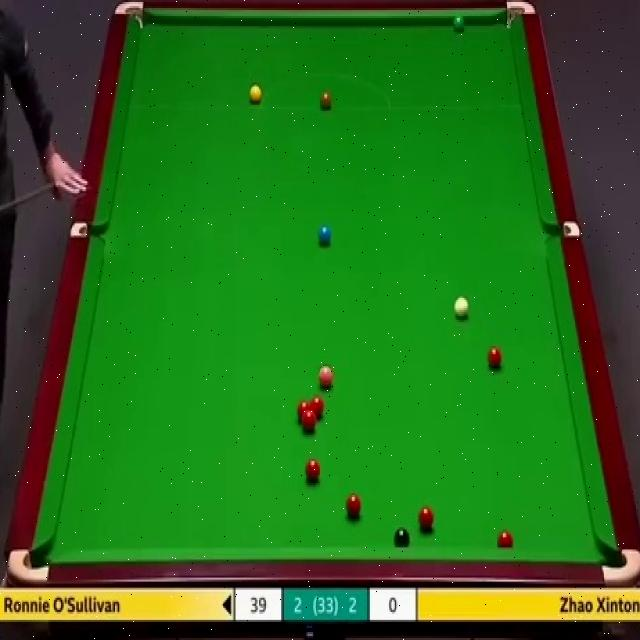black-ball: (393, 526, 409, 546)
blue-ball: (317, 223, 332, 246)
brown-ball: (319, 89, 333, 112)
green-ball: (453, 14, 466, 30)
pink-ball: (318, 361, 334, 388)
red-ball: (418, 504, 435, 532), (345, 492, 362, 520), (306, 457, 321, 483), (488, 346, 502, 369), (311, 395, 324, 418), (303, 410, 316, 432), (499, 530, 514, 549), (298, 402, 310, 414)
white-ball: (454, 296, 471, 320)
yellow-ball: (248, 84, 262, 104)
